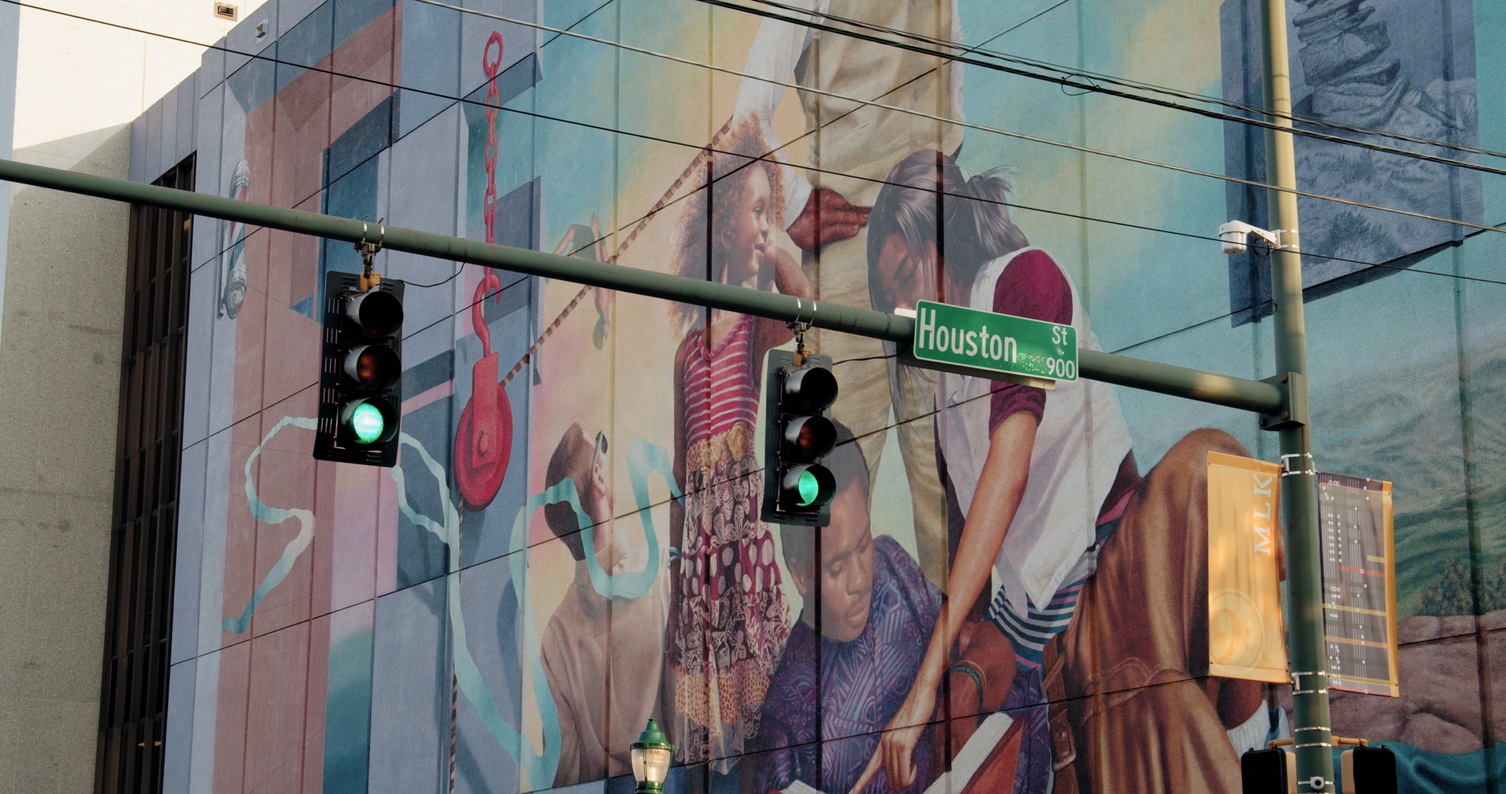green traffic light: (315, 265, 405, 475), (761, 350, 845, 528)
